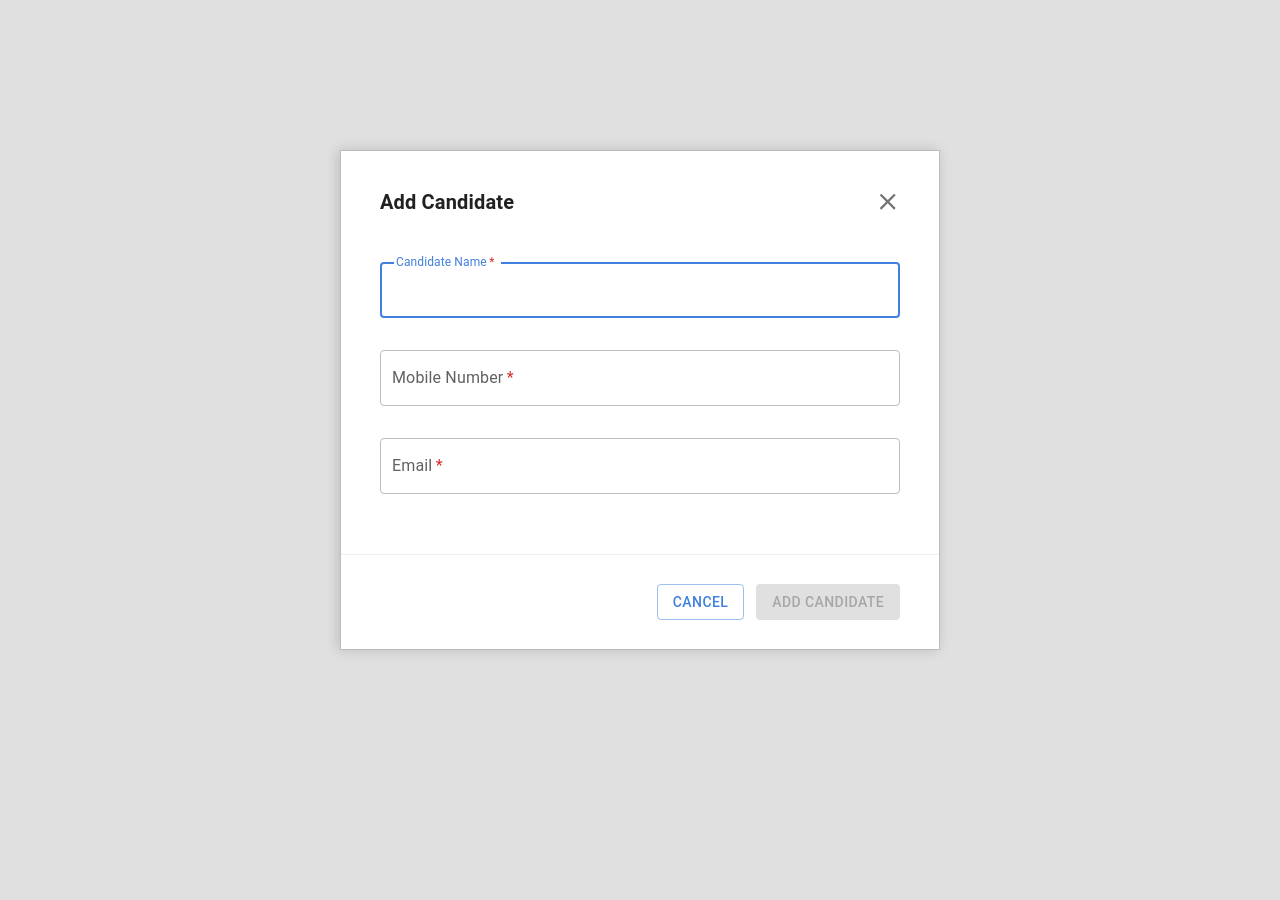
it: AddCandidateDialog › keeps the button disabled until every field has a value
Expected: the button "Add candidate" is disabled, [756,584,900,620]
Type "Taylor Swift" into the field labelled "Candidate Name *" at (640, 290), box [380,262,900,318]
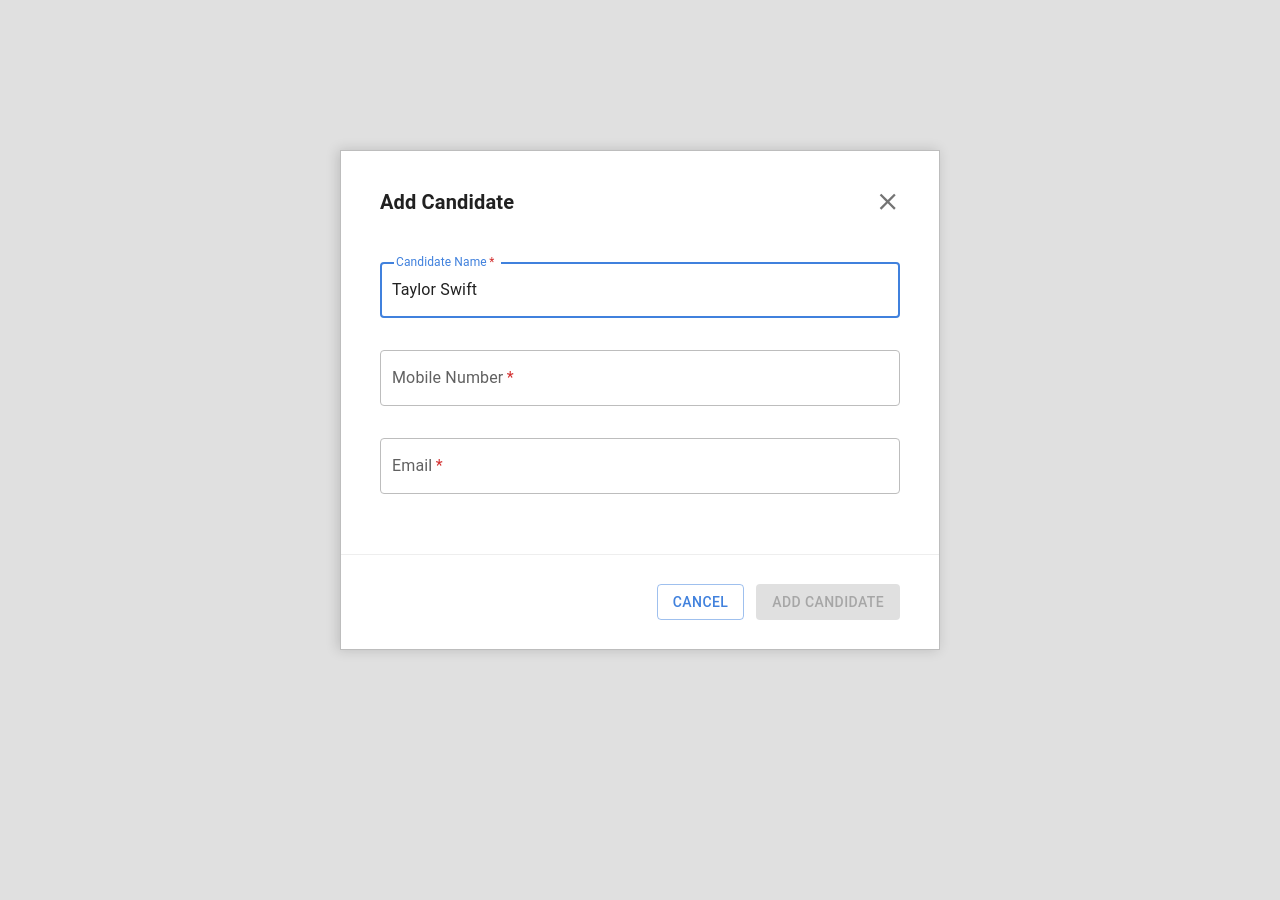
Type "9876543210" into the field labelled "Mobile Number *" at (640, 378), box [380,350,900,406]
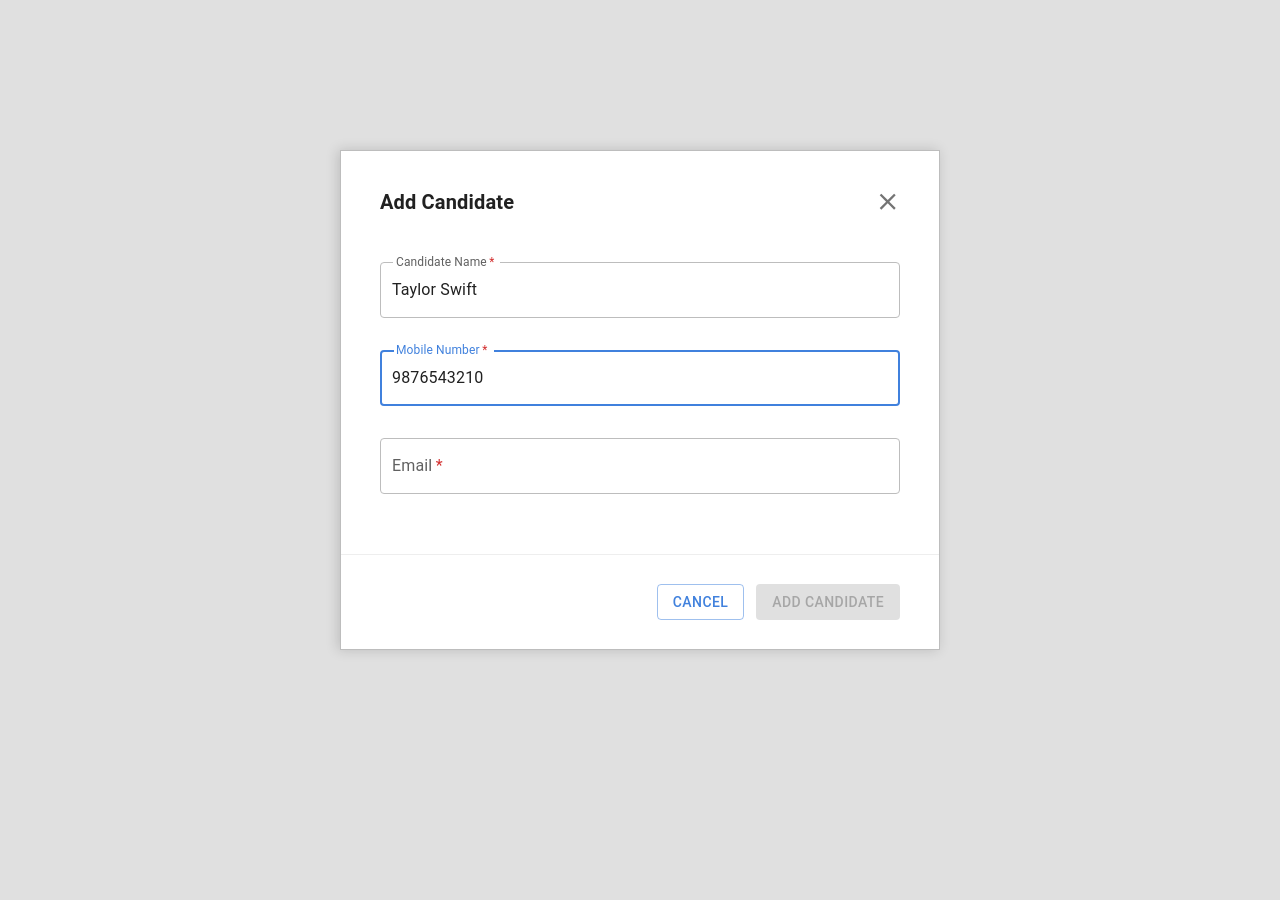
Type "taylor@example.com" into the field labelled "Email *" at (640, 466), box [380,438,900,494]
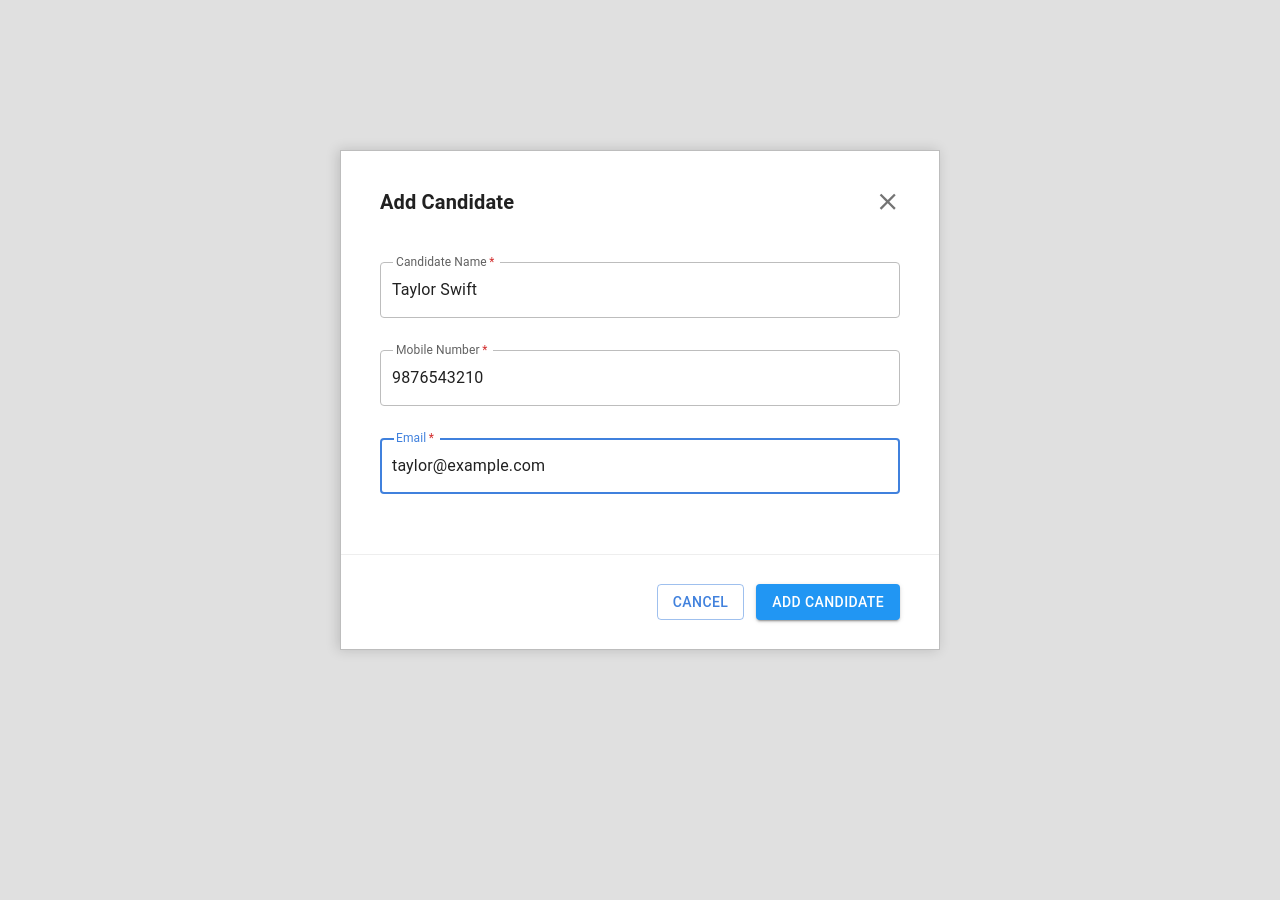
Expected: the button "Add candidate" is enabled, [756,584,900,620]
